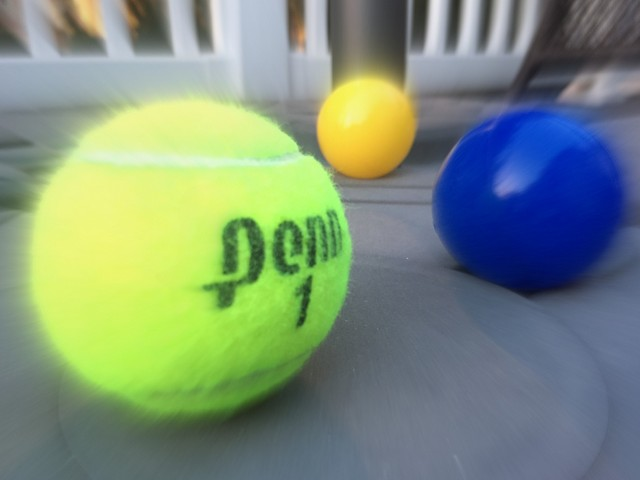Ball: (432, 113, 625, 292)
